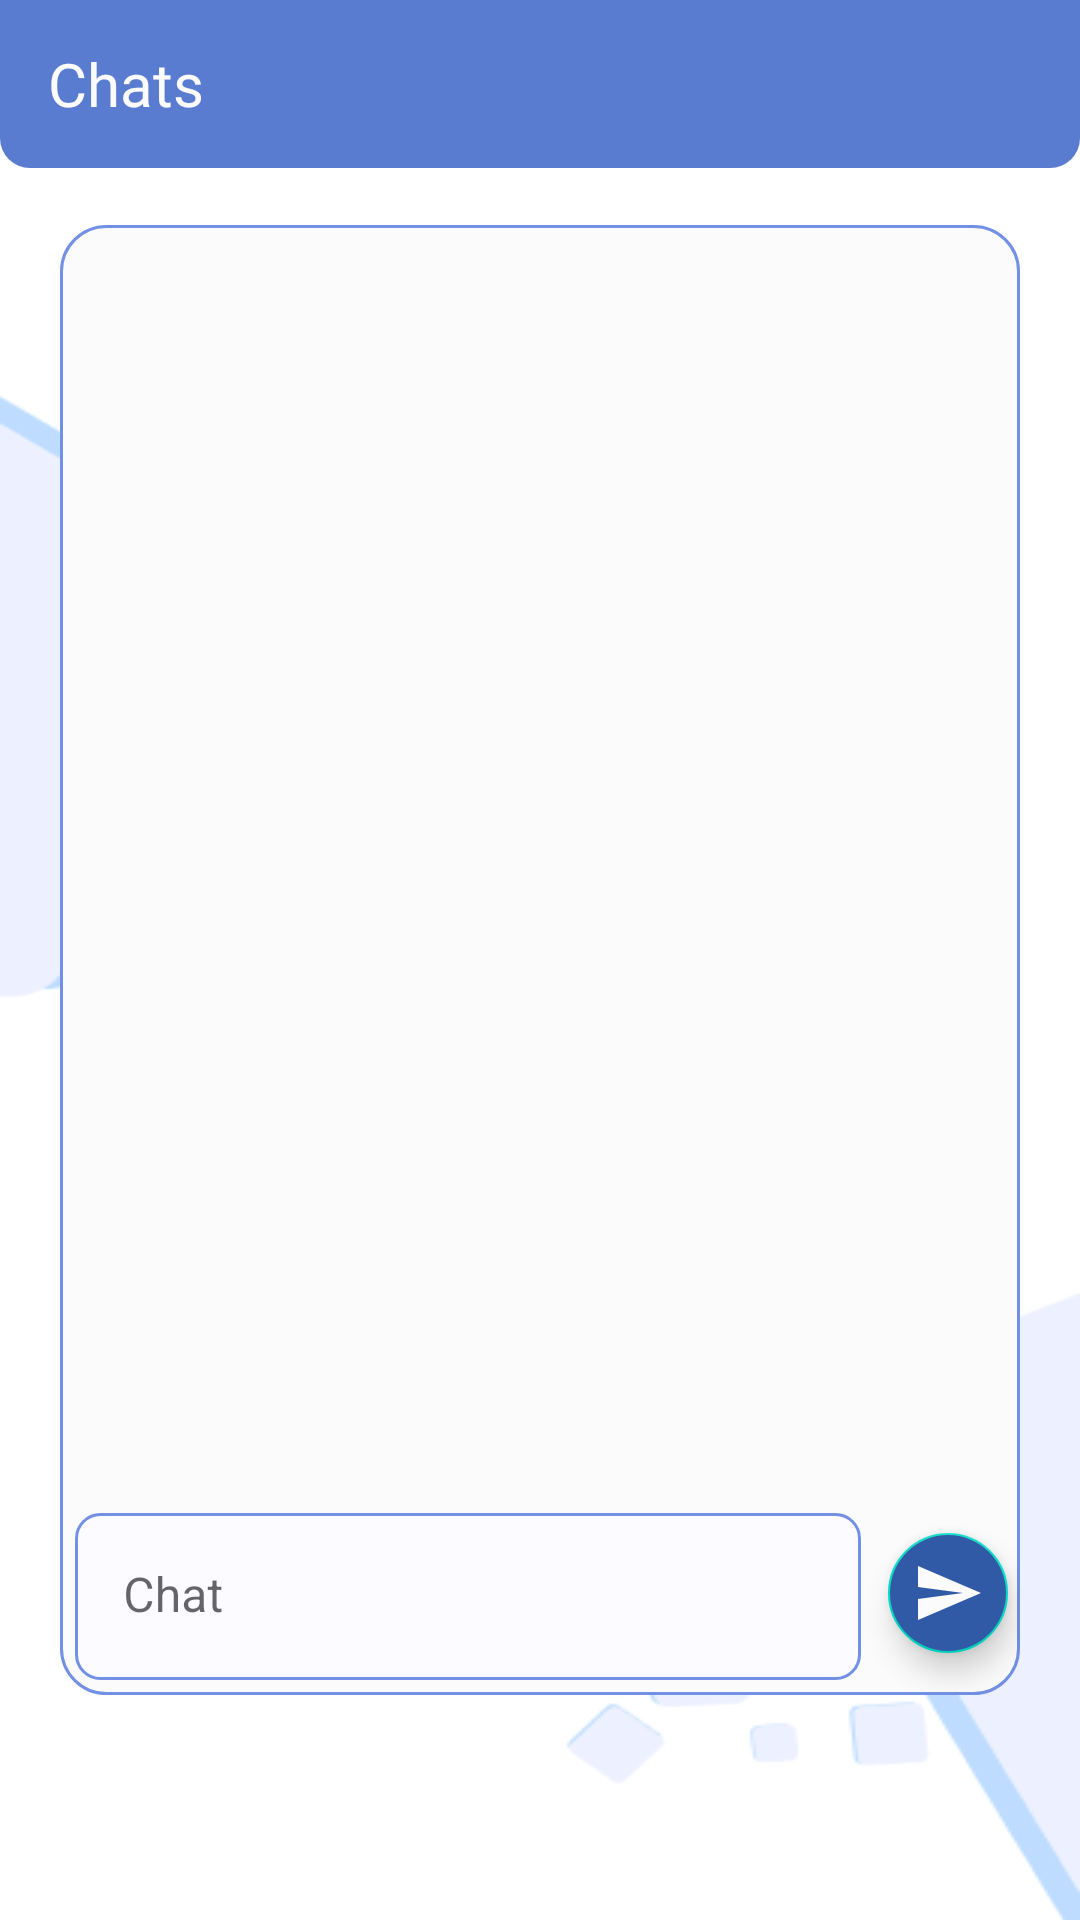

Icon bounding boxes for this 1080×1920 phone screenshot, format bbox=[x1, y1, x2, y2]:
send: bbox=[888, 1533, 1011, 1665]
